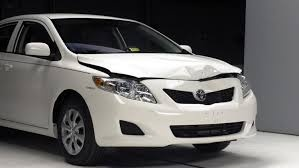Dent: (157, 64, 220, 86)
Scratch: (84, 83, 95, 92)
